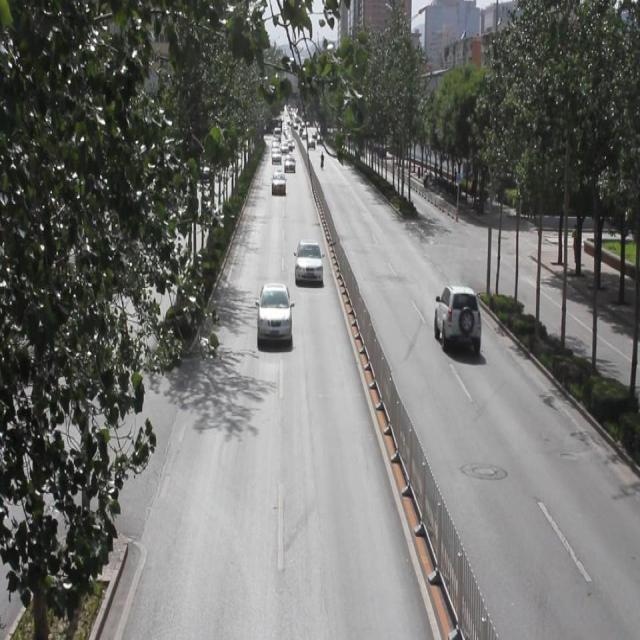car: (434, 282, 478, 352), (257, 281, 291, 344), (294, 239, 324, 287), (271, 169, 286, 197)
